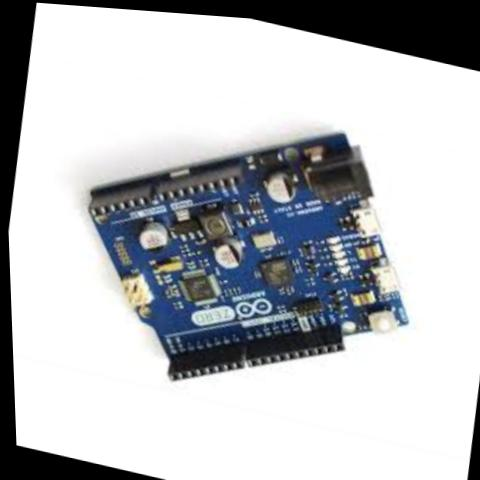Arduino-Zero: (45, 71, 453, 430)
